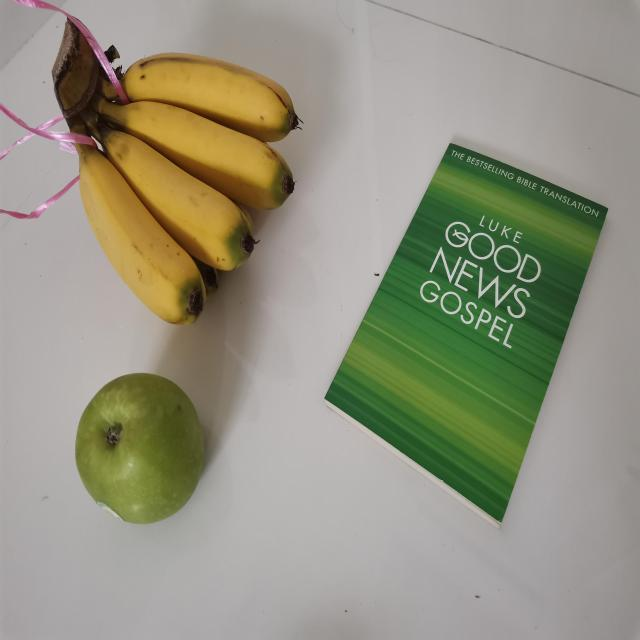Apple: (74, 372, 211, 526)
Banana: (50, 15, 303, 332)
Book: (321, 141, 610, 529)
